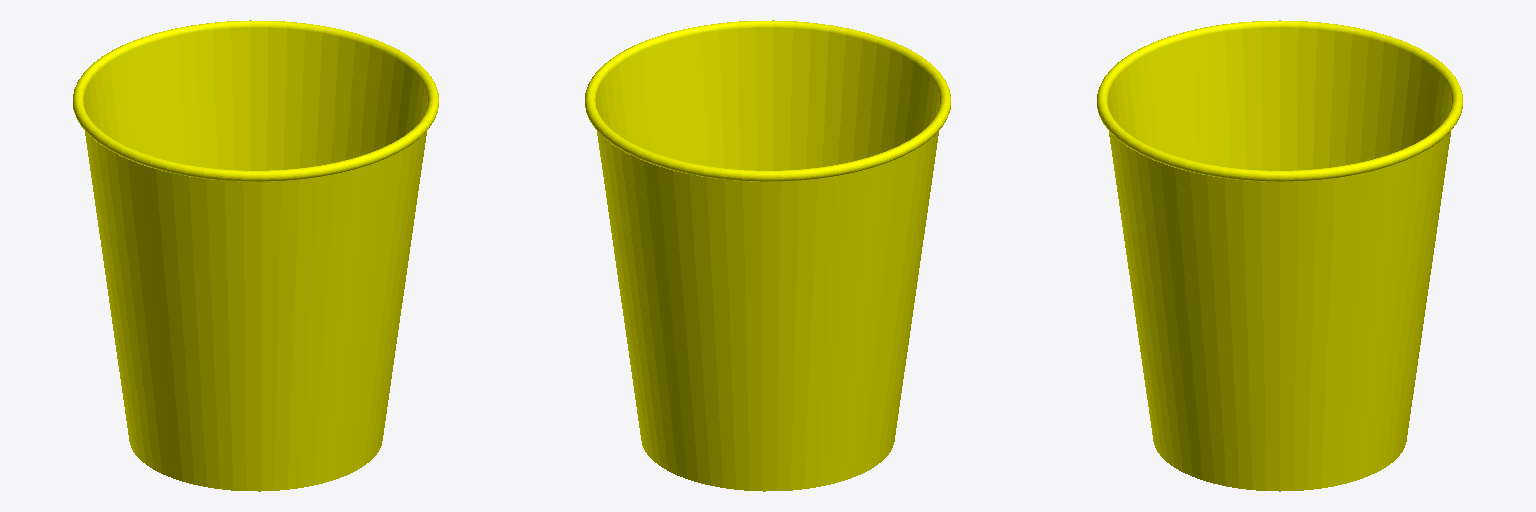
robot.urdf — paper_cup:
<?xml version="1.0" ?>
<robot name="paper_cup">
  <link name="paper_cup">

    <inertial>
       <mass value="0.00408"/>
       <inertia ixx="0.00000391" ixy="0.0" ixz="0.0" iyy="0.00000391" iyz="0.0" izz="0.00000349"/>
    </inertial>

    <visual>
      <origin rpy="0 0 0" xyz="0 0 0.037"/>
      <geometry>
        <mesh filename="package://target_objects/meshes/paper_cup.obj" scale="1 1 1"/>
      </geometry>
      <material name="white">
        <color rgba="1.0 1.0 0.0 0.0"/>
      </material>
    </visual>
    <collision>
      <origin rpy="0 0 0" xyz="0 0 0.037"/>
      <geometry>
        <mesh filename="package://target_objects/meshes/paper_cup.obj" scale="1 1 1"/>
      </geometry>
    </collision>
  </link>

</robot>

--- What the picture shows (computed from the rendered views, not written in the file) ---
Views: 3 orthographic renders of the robot side by side, from view 1: azimuth 30°, elevation 25°; view 2: azimuth 150°, elevation 25°; view 3: azimuth 270°, elevation 25°.
Robot: paper_cup — 1 links, 0 joints (none); root link paper_cup; default pose: every joint at zero.
Links seen in each view (by area): view 1: paper_cup; view 2: paper_cup; view 3: paper_cup.
Link boxes in pixels (x1,y1,x2,y2): paper_cup: [73, 20, 438, 491]; paper_cup: [585, 20, 950, 491]; paper_cup: [1097, 20, 1462, 491].
Size in the robot's own frame: 0.072 by 0.0719 by 0.074 metres.
Meshes: 1 distinct files referenced, 1 mesh visuals loaded (1 OBJ).